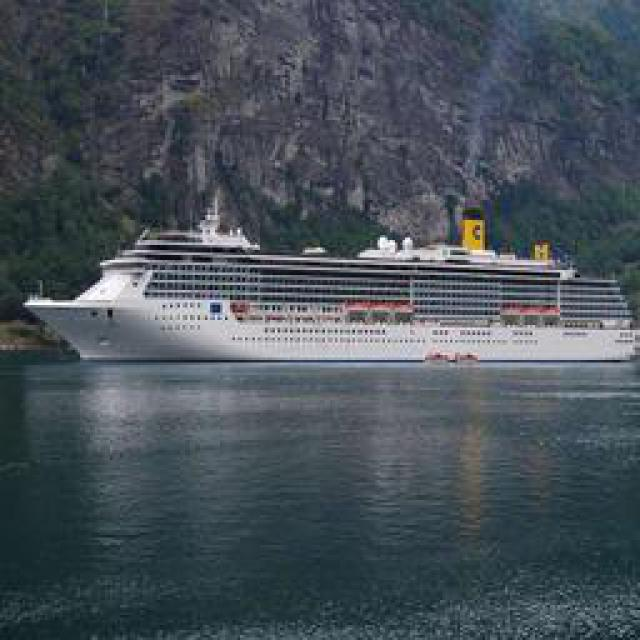Ship: (20, 218, 630, 373)
